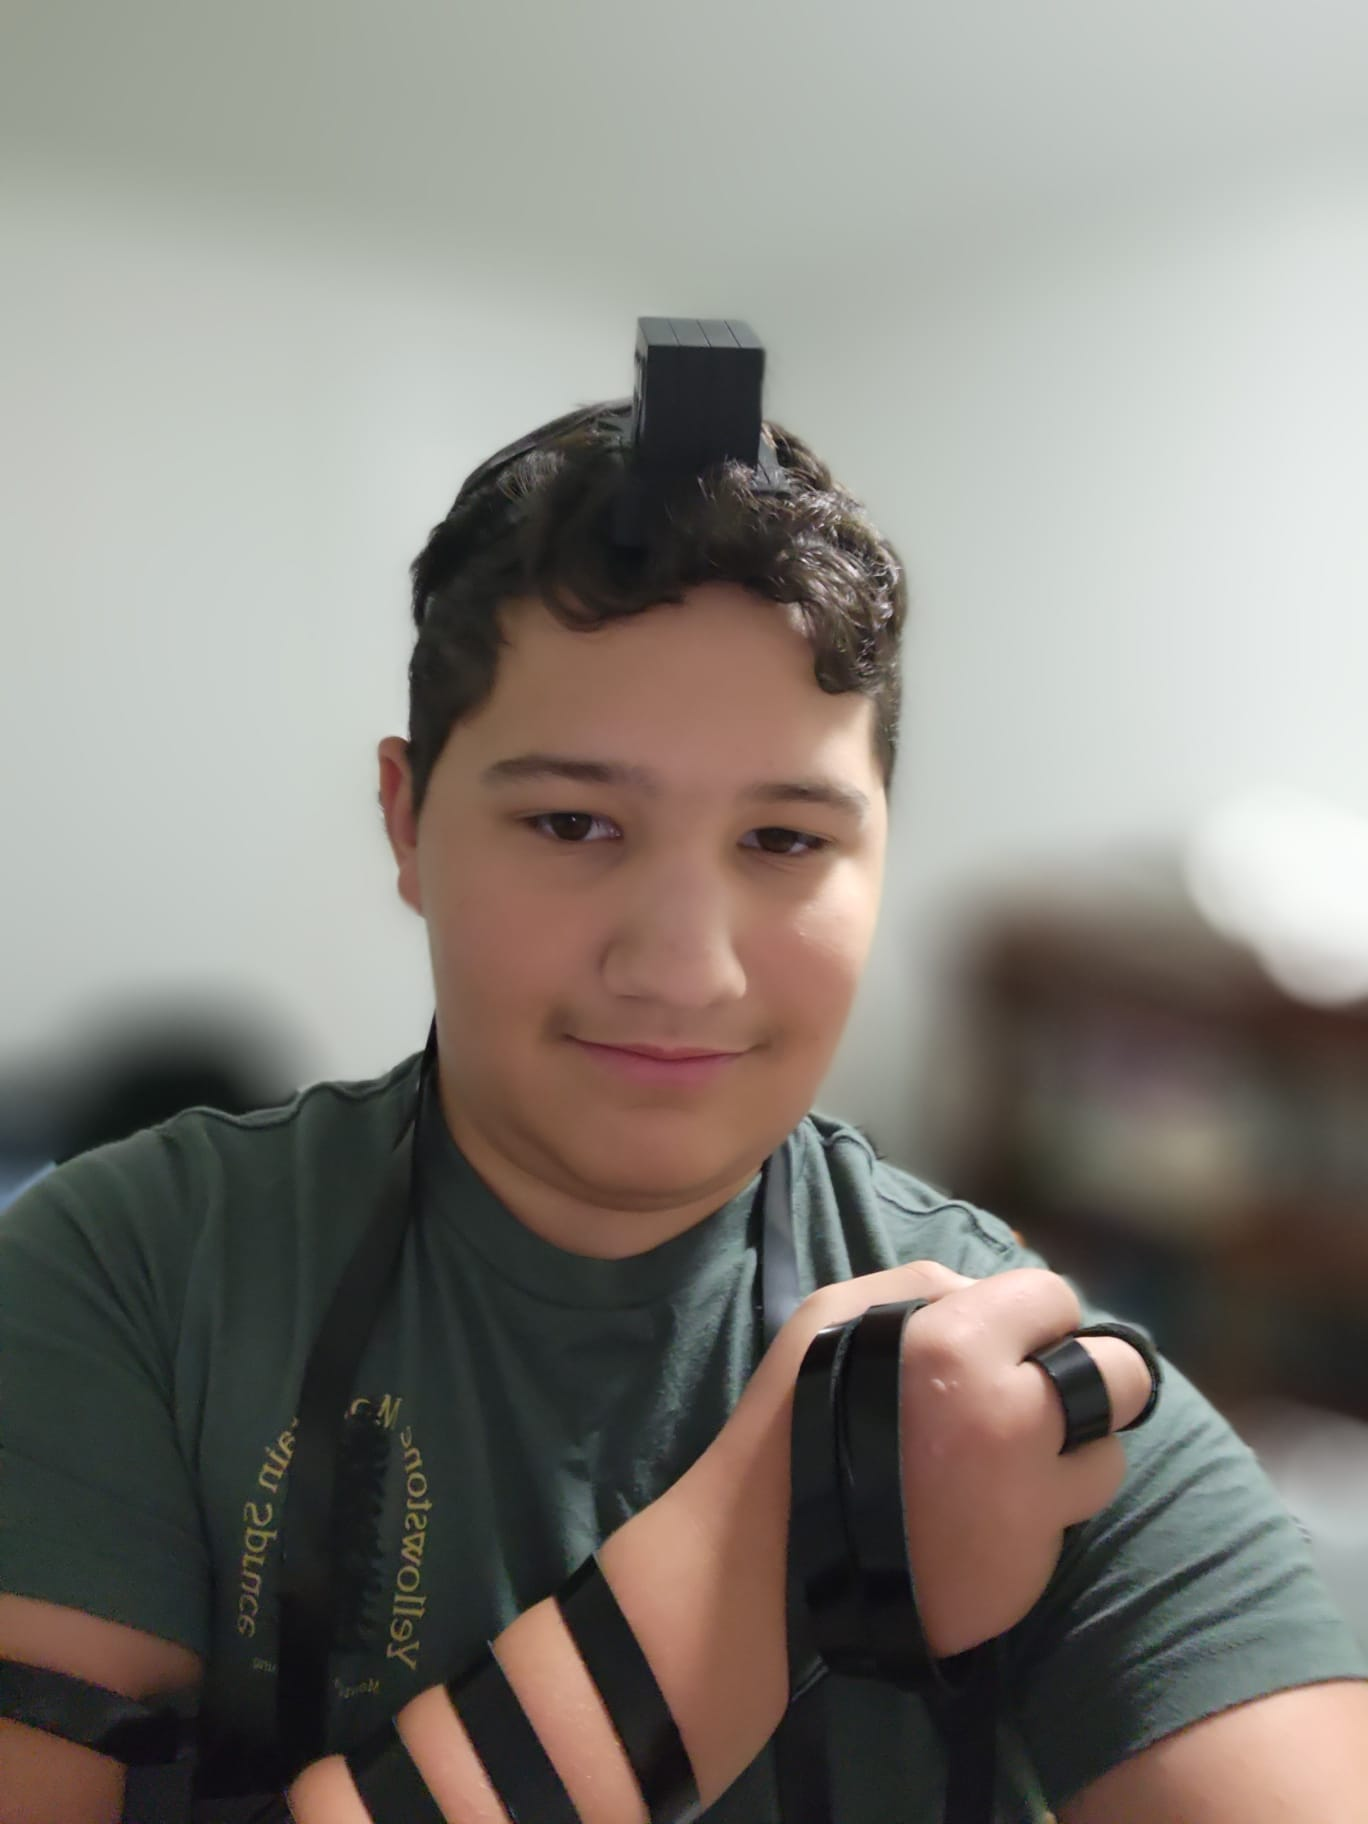tefillin: (616, 316, 796, 503)
